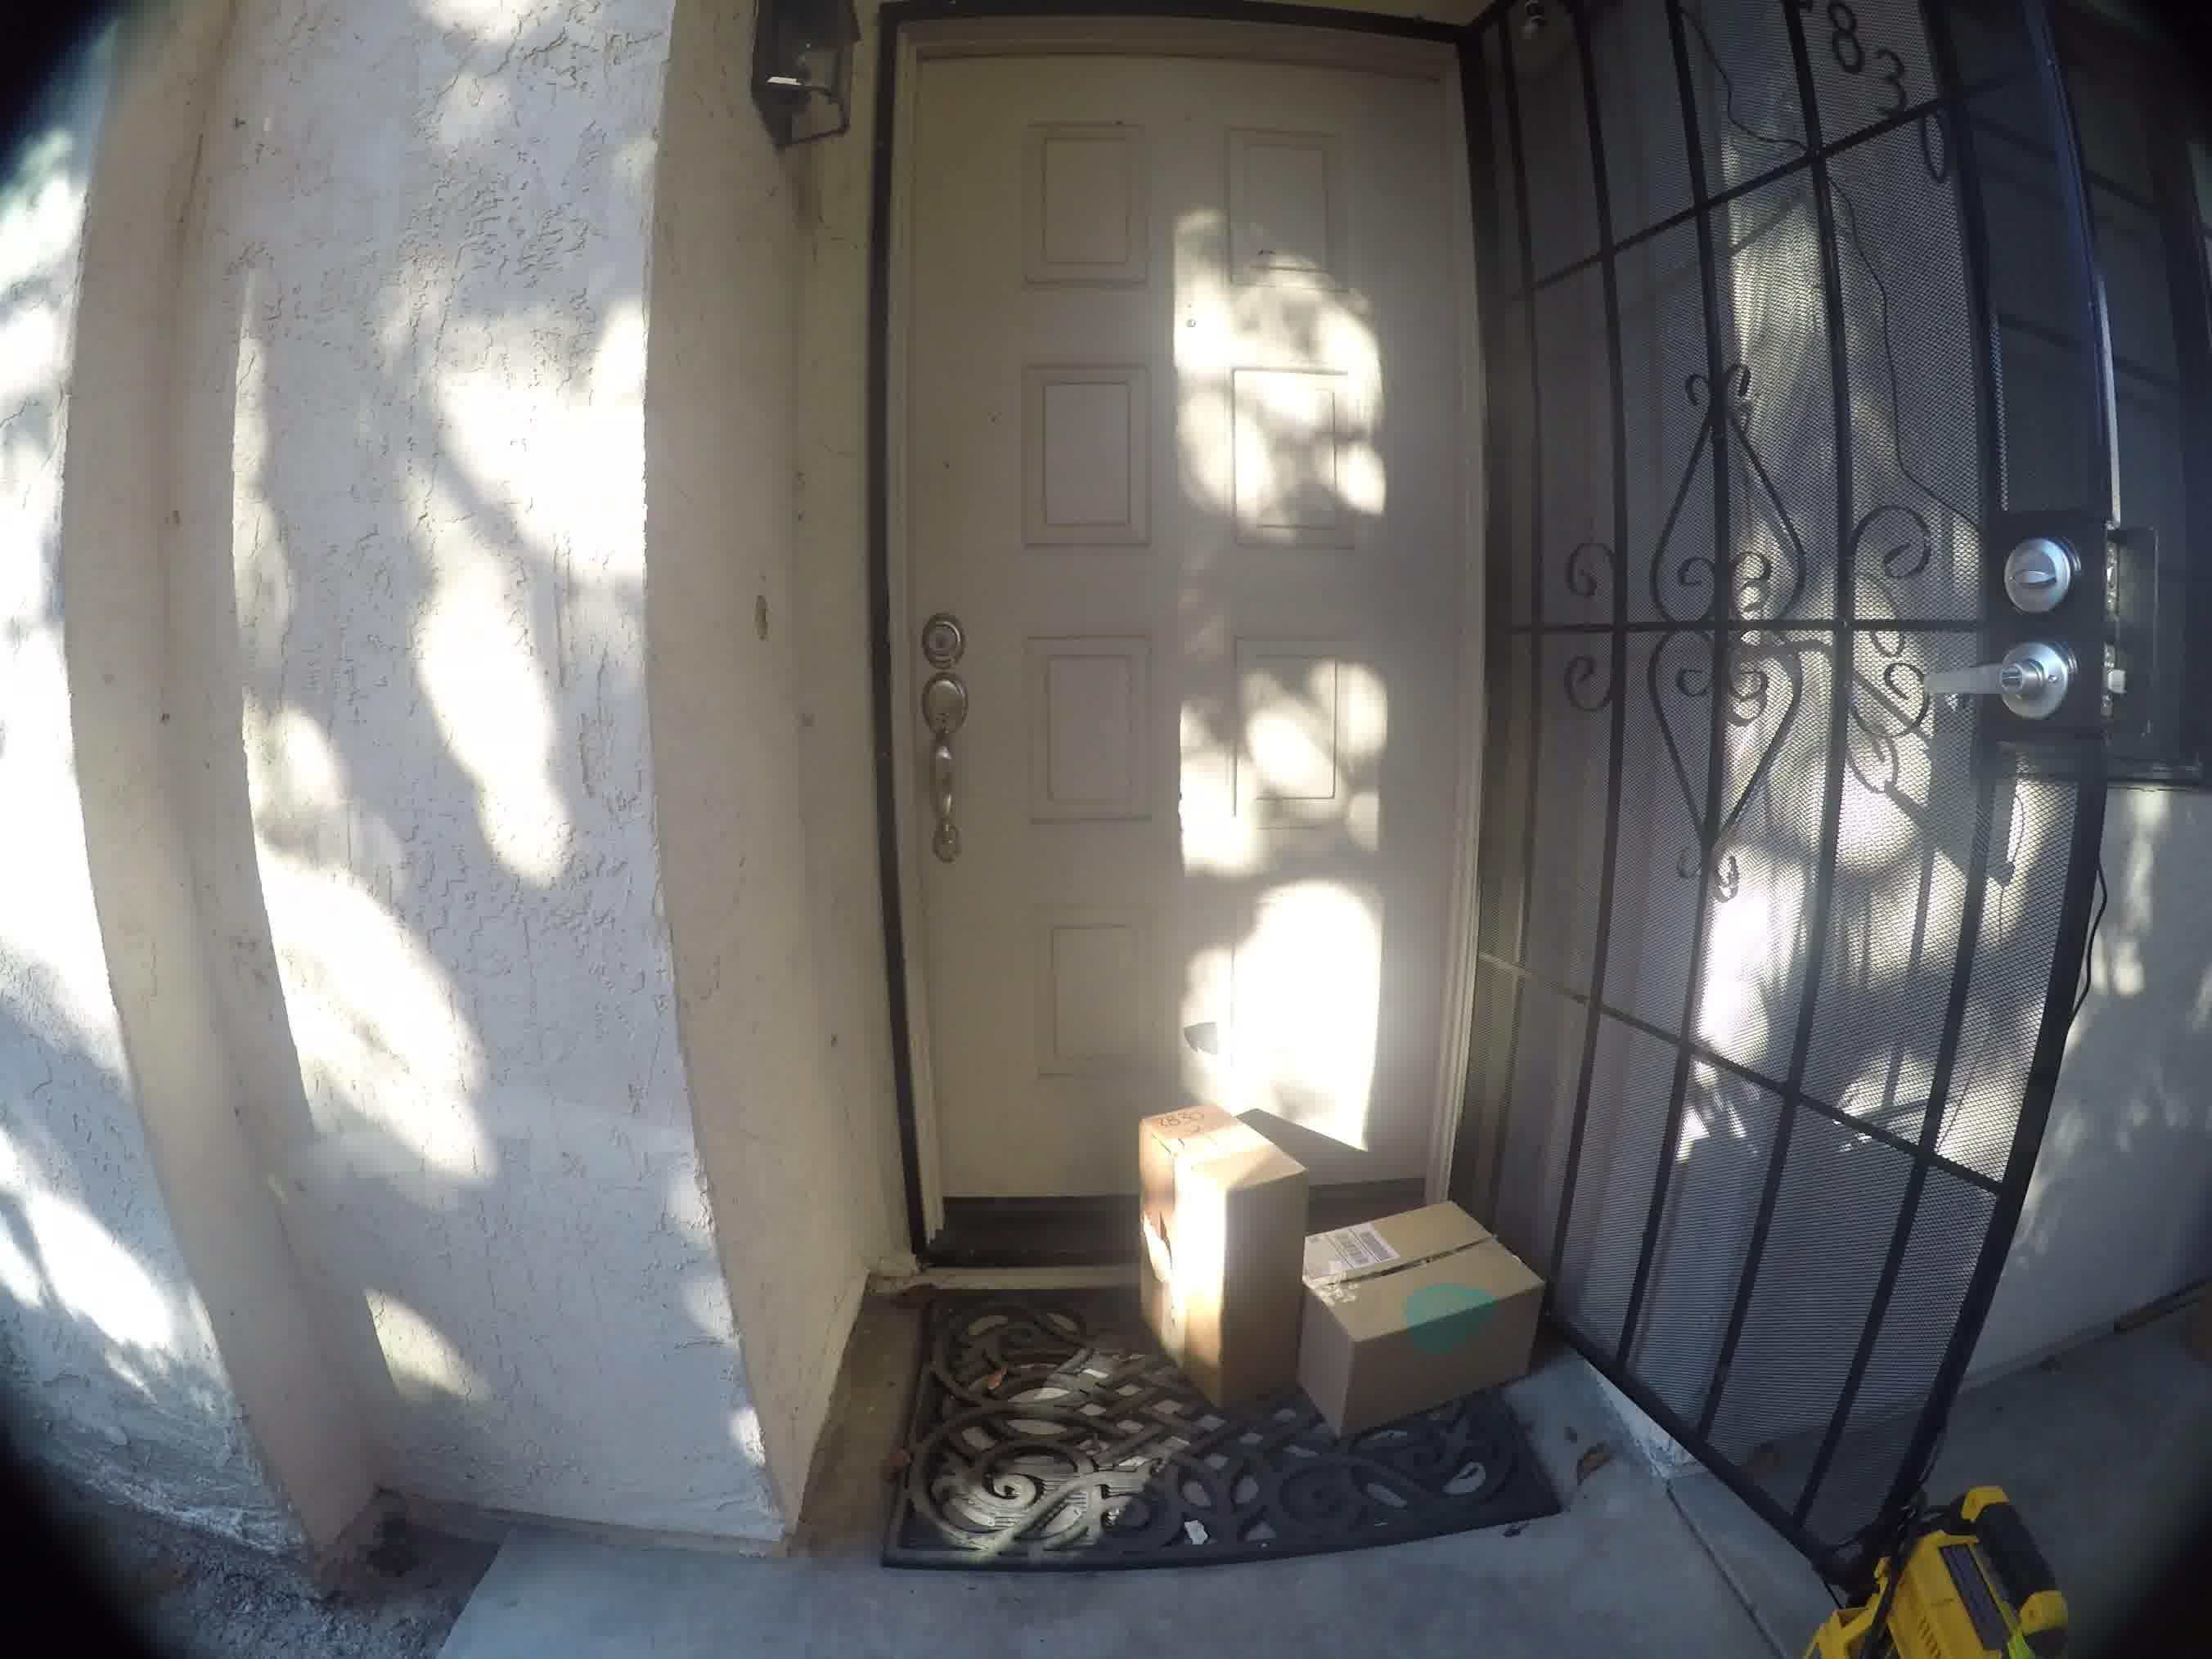box: (1122, 1100, 1294, 1403), (1313, 1204, 1568, 1396)
